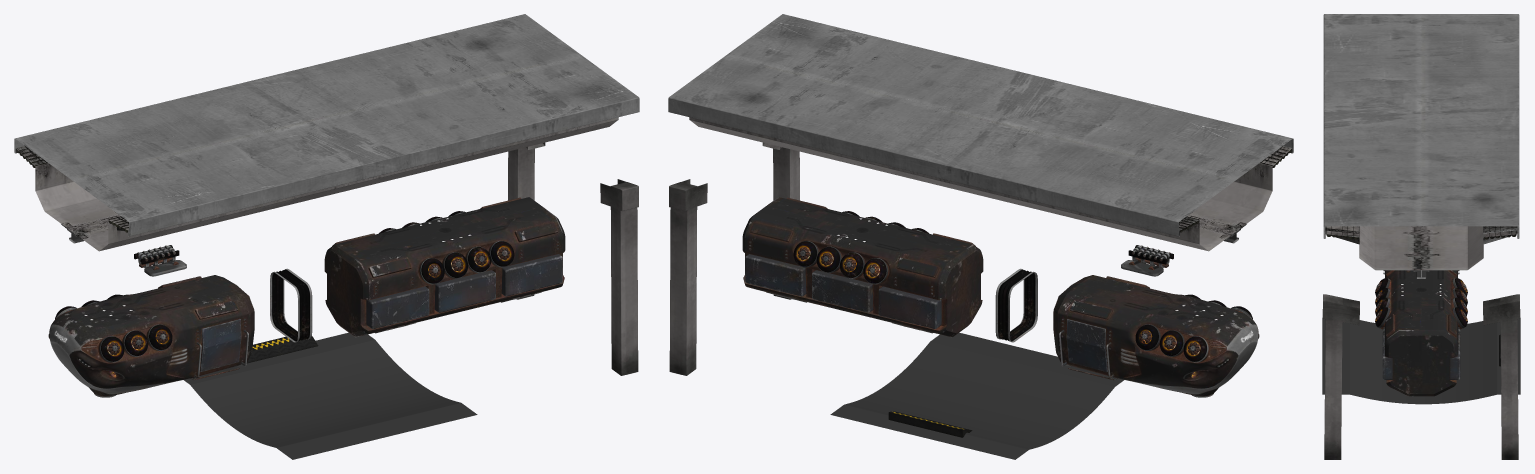
Rendered from SUP_modular_futuristic_train.glb.
3 views of the same model, side by side, from view 1: azimuth 30°, elevation 25°; view 2: azimuth 150°, elevation 25°; view 3: azimuth 270°, elevation 25° (orthographic). The views are drawn at different scales.
Visible parts, largest first — view 1: SUP_modular_futuristic_train; view 2: SUP_modular_futuristic_train; view 3: SUP_modular_futuristic_train.
Part boxes in pixels (left/top/right/bottom): SUP_modular_futuristic_train: left=14, top=14, right=639, bottom=459; SUP_modular_futuristic_train: left=668, top=14, right=1293, bottom=459; SUP_modular_futuristic_train: left=1322, top=14, right=1520, bottom=459.
Bounding box in the file's own units: 50.65 × 26.59 × 19.49.
4 materials, 3 textured.
